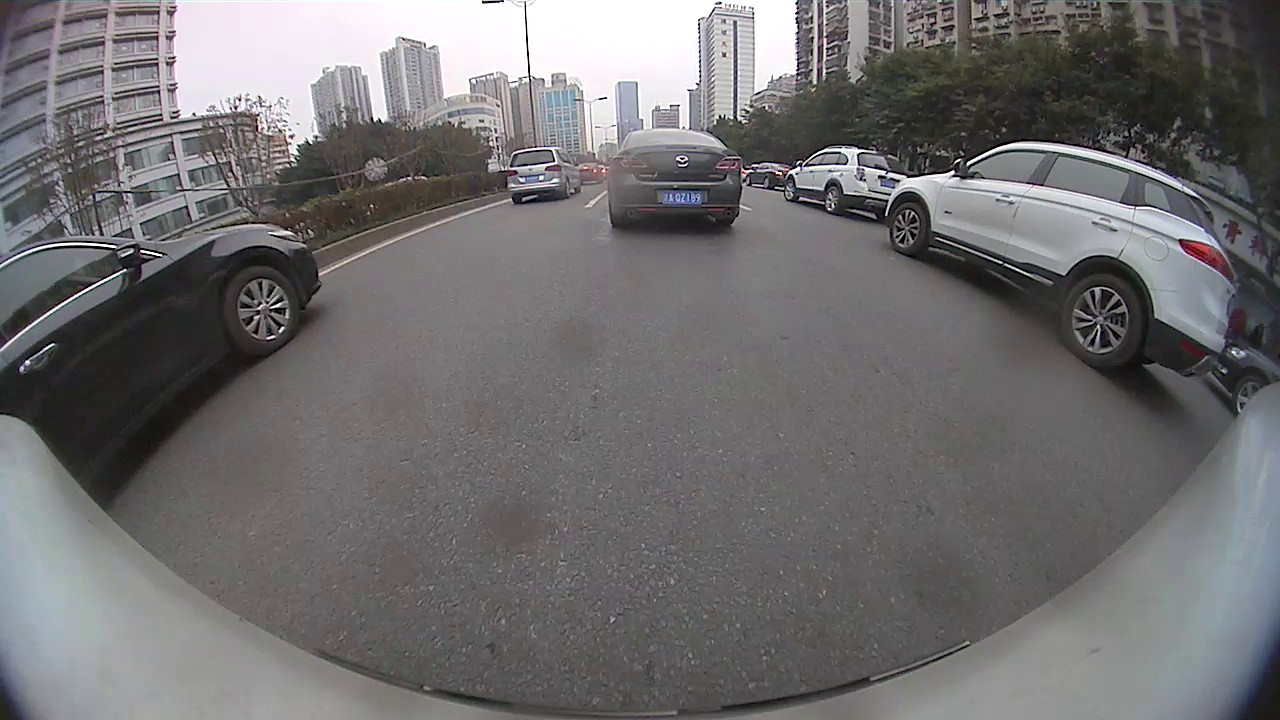car: (1, 221, 322, 495), (883, 139, 1239, 374), (606, 126, 745, 230), (783, 144, 910, 221), (1210, 343, 1279, 414), (507, 147, 575, 204), (746, 157, 791, 189), (576, 158, 607, 187)
front: (222, 265, 303, 355), (890, 197, 924, 256), (781, 179, 797, 201)
person: (1233, 302, 1247, 340), (1253, 322, 1264, 352)
rear: (1060, 274, 1148, 371), (822, 183, 842, 213)
